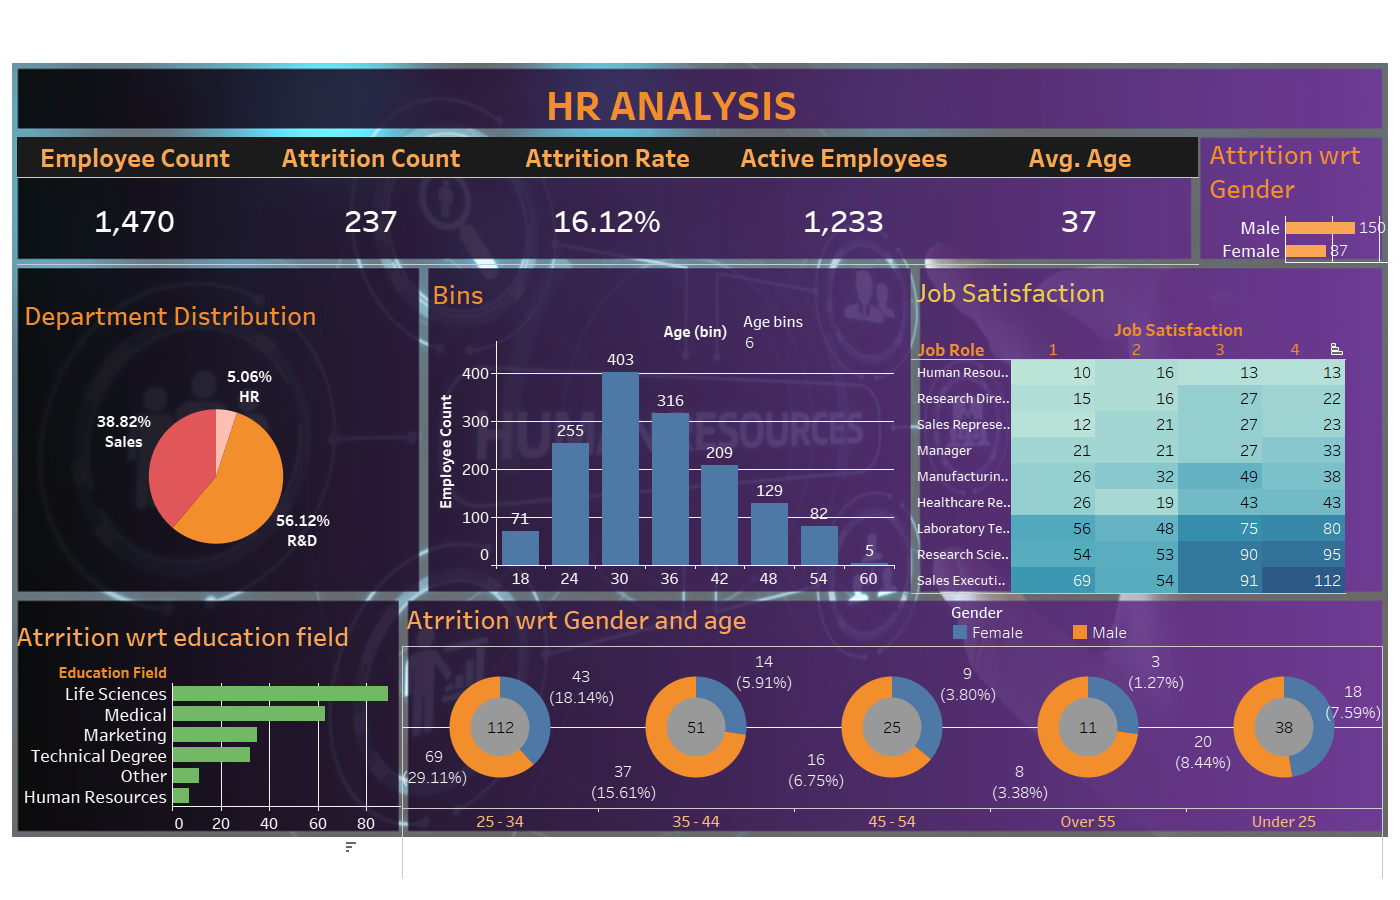

This screenshot's page, from the dashboard's own definition file:
{"tool":"tableau","page":{"name":"Dashboard 1","canvas":[1400,900],"ordinal":0},"visuals":[{"type":"title","box":[8,8,1384,49]},{"type":"image","param":"C:/Users/lenovo/Downloads/HR background.pptx.png","box":[8,57,1384,835]},{"type":"text","box":[194,96,967,51]},{"type":"worksheet","title":"Gender Attrition","mark":"Bar","rows":["Gender"],"cols":["Calculation_1002895393069486080"],"box":[1200,147,189,131]},{"type":"worksheet","title":"Sheet 1","mark":"Automatic","box":[14,175,1182,252]},{"type":"worksheet","title":"Job Satisfaction","mark":"Square","rows":["Job Role"],"cols":["Job Satisfaction"],"box":[907,291,435,325]},{"type":"worksheet","title":"Department Distribution","mark":"Pie","box":[20,292,392,319]},{"type":"worksheet","title":"Bins","mark":"Bar","rows":["Employee Count"],"cols":["Age (bin)"],"box":[425,294,466,319]},{"type":"parameter","param":"[Parameters].[Parameter 1]","box":[743,310,160,71]},{"type":"worksheet","title":"Atrrition wrt education field","mark":"Automatic","rows":["Education Field"],"cols":["Calculation_1002895393069486080"],"box":[12,613,388,245]},{"type":"legend","title":"Atrrition wrt Gender","param":"[federated.1eiqn331rnrb451coy6ev0k71qlk].[none:Gender:nk]","box":[901,619,226,65]}]}

Visuals, with their boxes in screenshot pixels (x1, y1, x2, y2), scaled from the page's 1400x900 canvas onto the 1400x900 screenshot:
title: bbox=[8, 8, 1392, 57]
image: bbox=[8, 57, 1392, 892]
text: bbox=[194, 96, 1161, 147]
"Gender Attrition" worksheet (Bar marks): bbox=[1200, 147, 1389, 278]
"Sheet 1" worksheet: bbox=[14, 175, 1196, 427]
"Job Satisfaction" worksheet (Square marks): bbox=[907, 291, 1342, 616]
"Department Distribution" worksheet (Pie marks): bbox=[20, 292, 412, 611]
"Bins" worksheet (Bar marks): bbox=[425, 294, 891, 613]
parameter: bbox=[743, 310, 903, 381]
"Atrrition wrt education field" worksheet: bbox=[12, 613, 400, 858]
"Atrrition wrt Gender" legend: bbox=[901, 619, 1127, 684]
